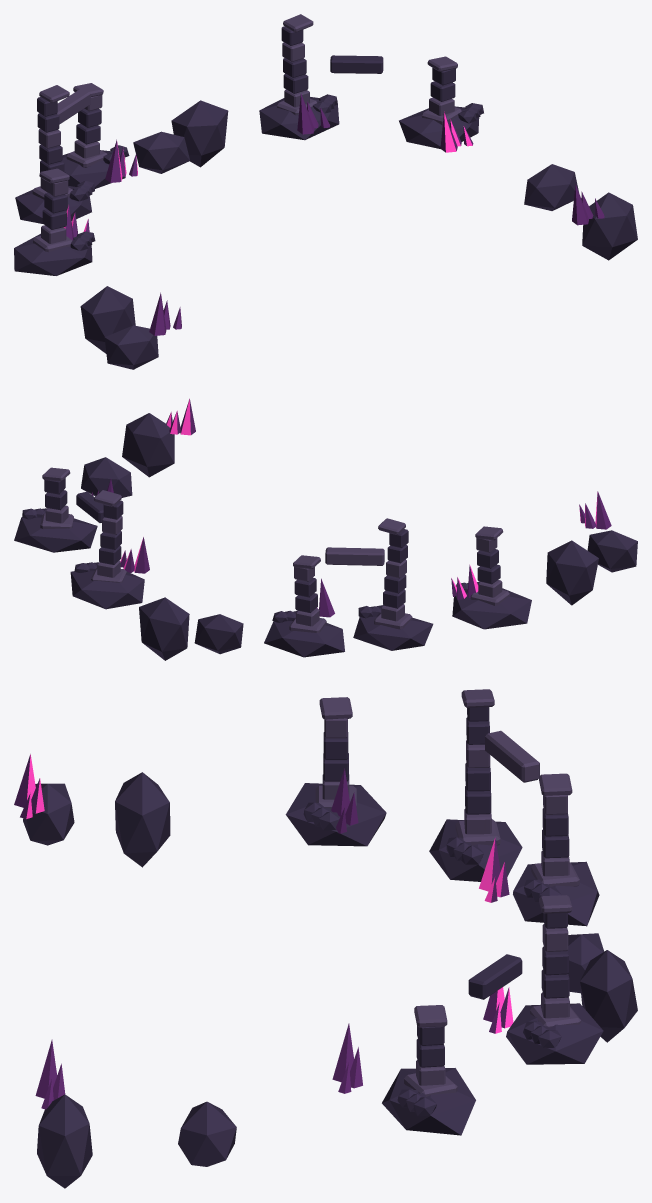
Rendered from Arena_Cenario.glb.
3 views of the same model, one above another, from view 1: azimuth 30°, elevation 25°; view 2: azimuth 150°, elevation 25°; view 3: azimuth 270°, elevation 25° (orthographic). The views are drawn at different scales.
Visible parts, largest first — view 1: Arena_Background, Corrupted_crystals_periphery; view 2: Arena_Background, Corrupted_crystals_periphery; view 3: Arena_Background, Corrupted_crystals_periphery.
Boxes of the visible parts, x1,y1,x2,y2 form: Arena_Background: (14, 14, 637, 369); Corrupted_crystals_periphery: (63, 93, 604, 335); Arena_Background: (14, 413, 637, 660); Corrupted_crystals_periphery: (91, 398, 611, 617); Arena_Background: (23, 689, 637, 1188); Corrupted_crystals_periphery: (14, 754, 513, 1109).
Bounding box in the file's own units: 19.76 × 5.67 × 14.5.
